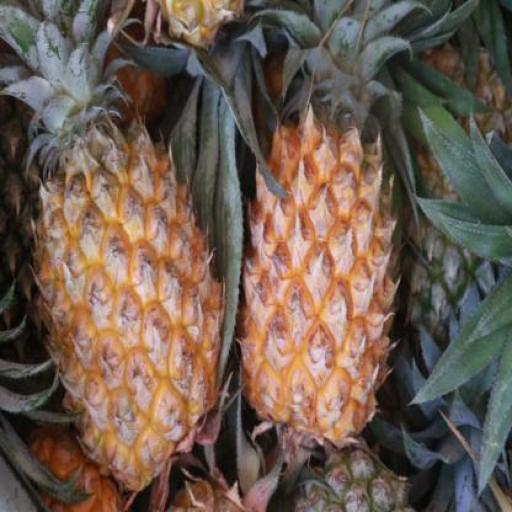Pineapple - v8 v1: (24, 113, 216, 494), (240, 108, 396, 450)
